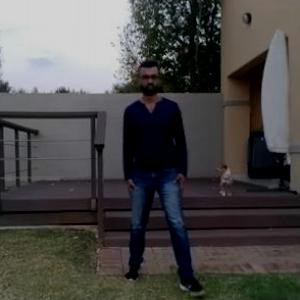follow: (120, 63, 174, 279)
